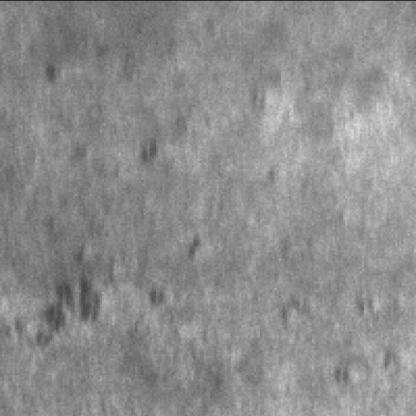rolled-in_scale: (4, 250, 171, 347), (285, 295, 399, 385)
